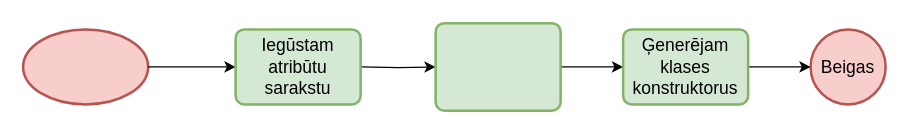
The diagram is 908 pixels wide and 133 high, and some of its shapes have lost their labels. The shapes that lost their labels are listed below. From the top down, each one's centre as x and y in pixels, then its label:
the point at 85,66: Sākums
the point at 497,66: Iegūstam asociāciju sarakstu
